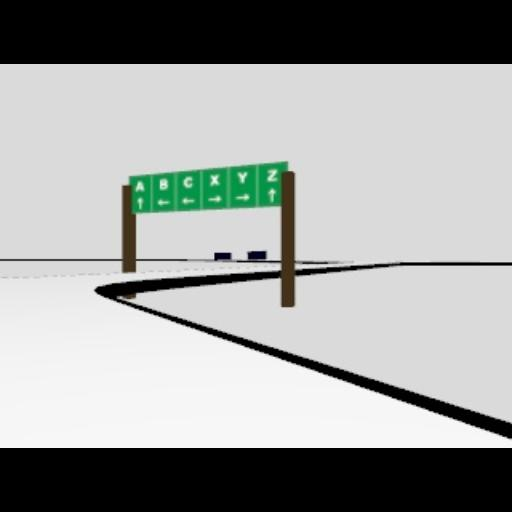A: (135, 180, 145, 192)
B: (159, 180, 169, 190)
C: (184, 176, 194, 188)
Left: (181, 197, 195, 203), (156, 199, 170, 205)
Right: (234, 193, 250, 201), (208, 194, 222, 202)
Straight: (268, 188, 276, 202), (137, 196, 143, 210)
X: (210, 174, 220, 186)
Y: (237, 171, 249, 183)
Z: (266, 170, 278, 182)
